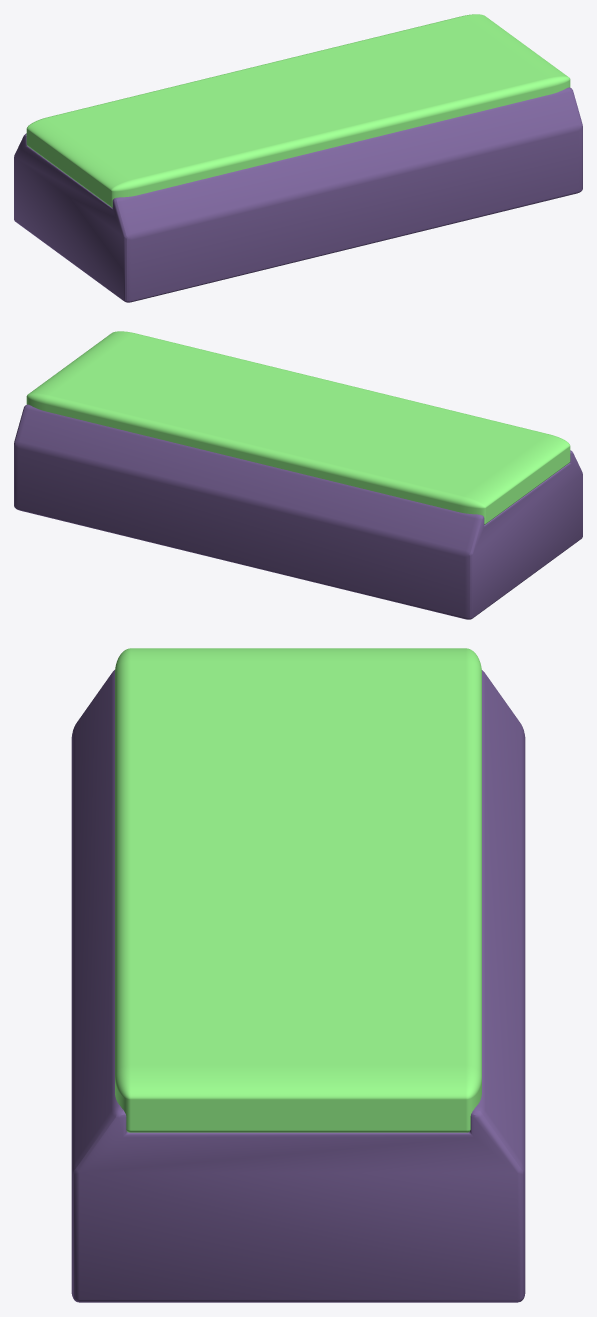
The picture shows the model from 3 angles, top to bottom: view 1: azimuth 30°, elevation 25°; view 2: azimuth 150°, elevation 25°; view 3: azimuth 270°, elevation 25°; orthographic projection. The views are drawn at different scales.
Visible parts, largest first — view 1: Cube.011, Plane.014; view 2: Cube.011, Plane.014; view 3: Plane.014, Cube.011.
Part boxes in pixels (x1,y1,x2,y2): Cube.011: [14, 87, 582, 302]; Plane.014: [26, 14, 570, 207]; Cube.011: [14, 404, 582, 619]; Plane.014: [26, 331, 570, 524]; Plane.014: [115, 648, 481, 1132]; Cube.011: [71, 670, 525, 1302].
Bounding box in the file's own units: 311 × 70.78 × 133.
